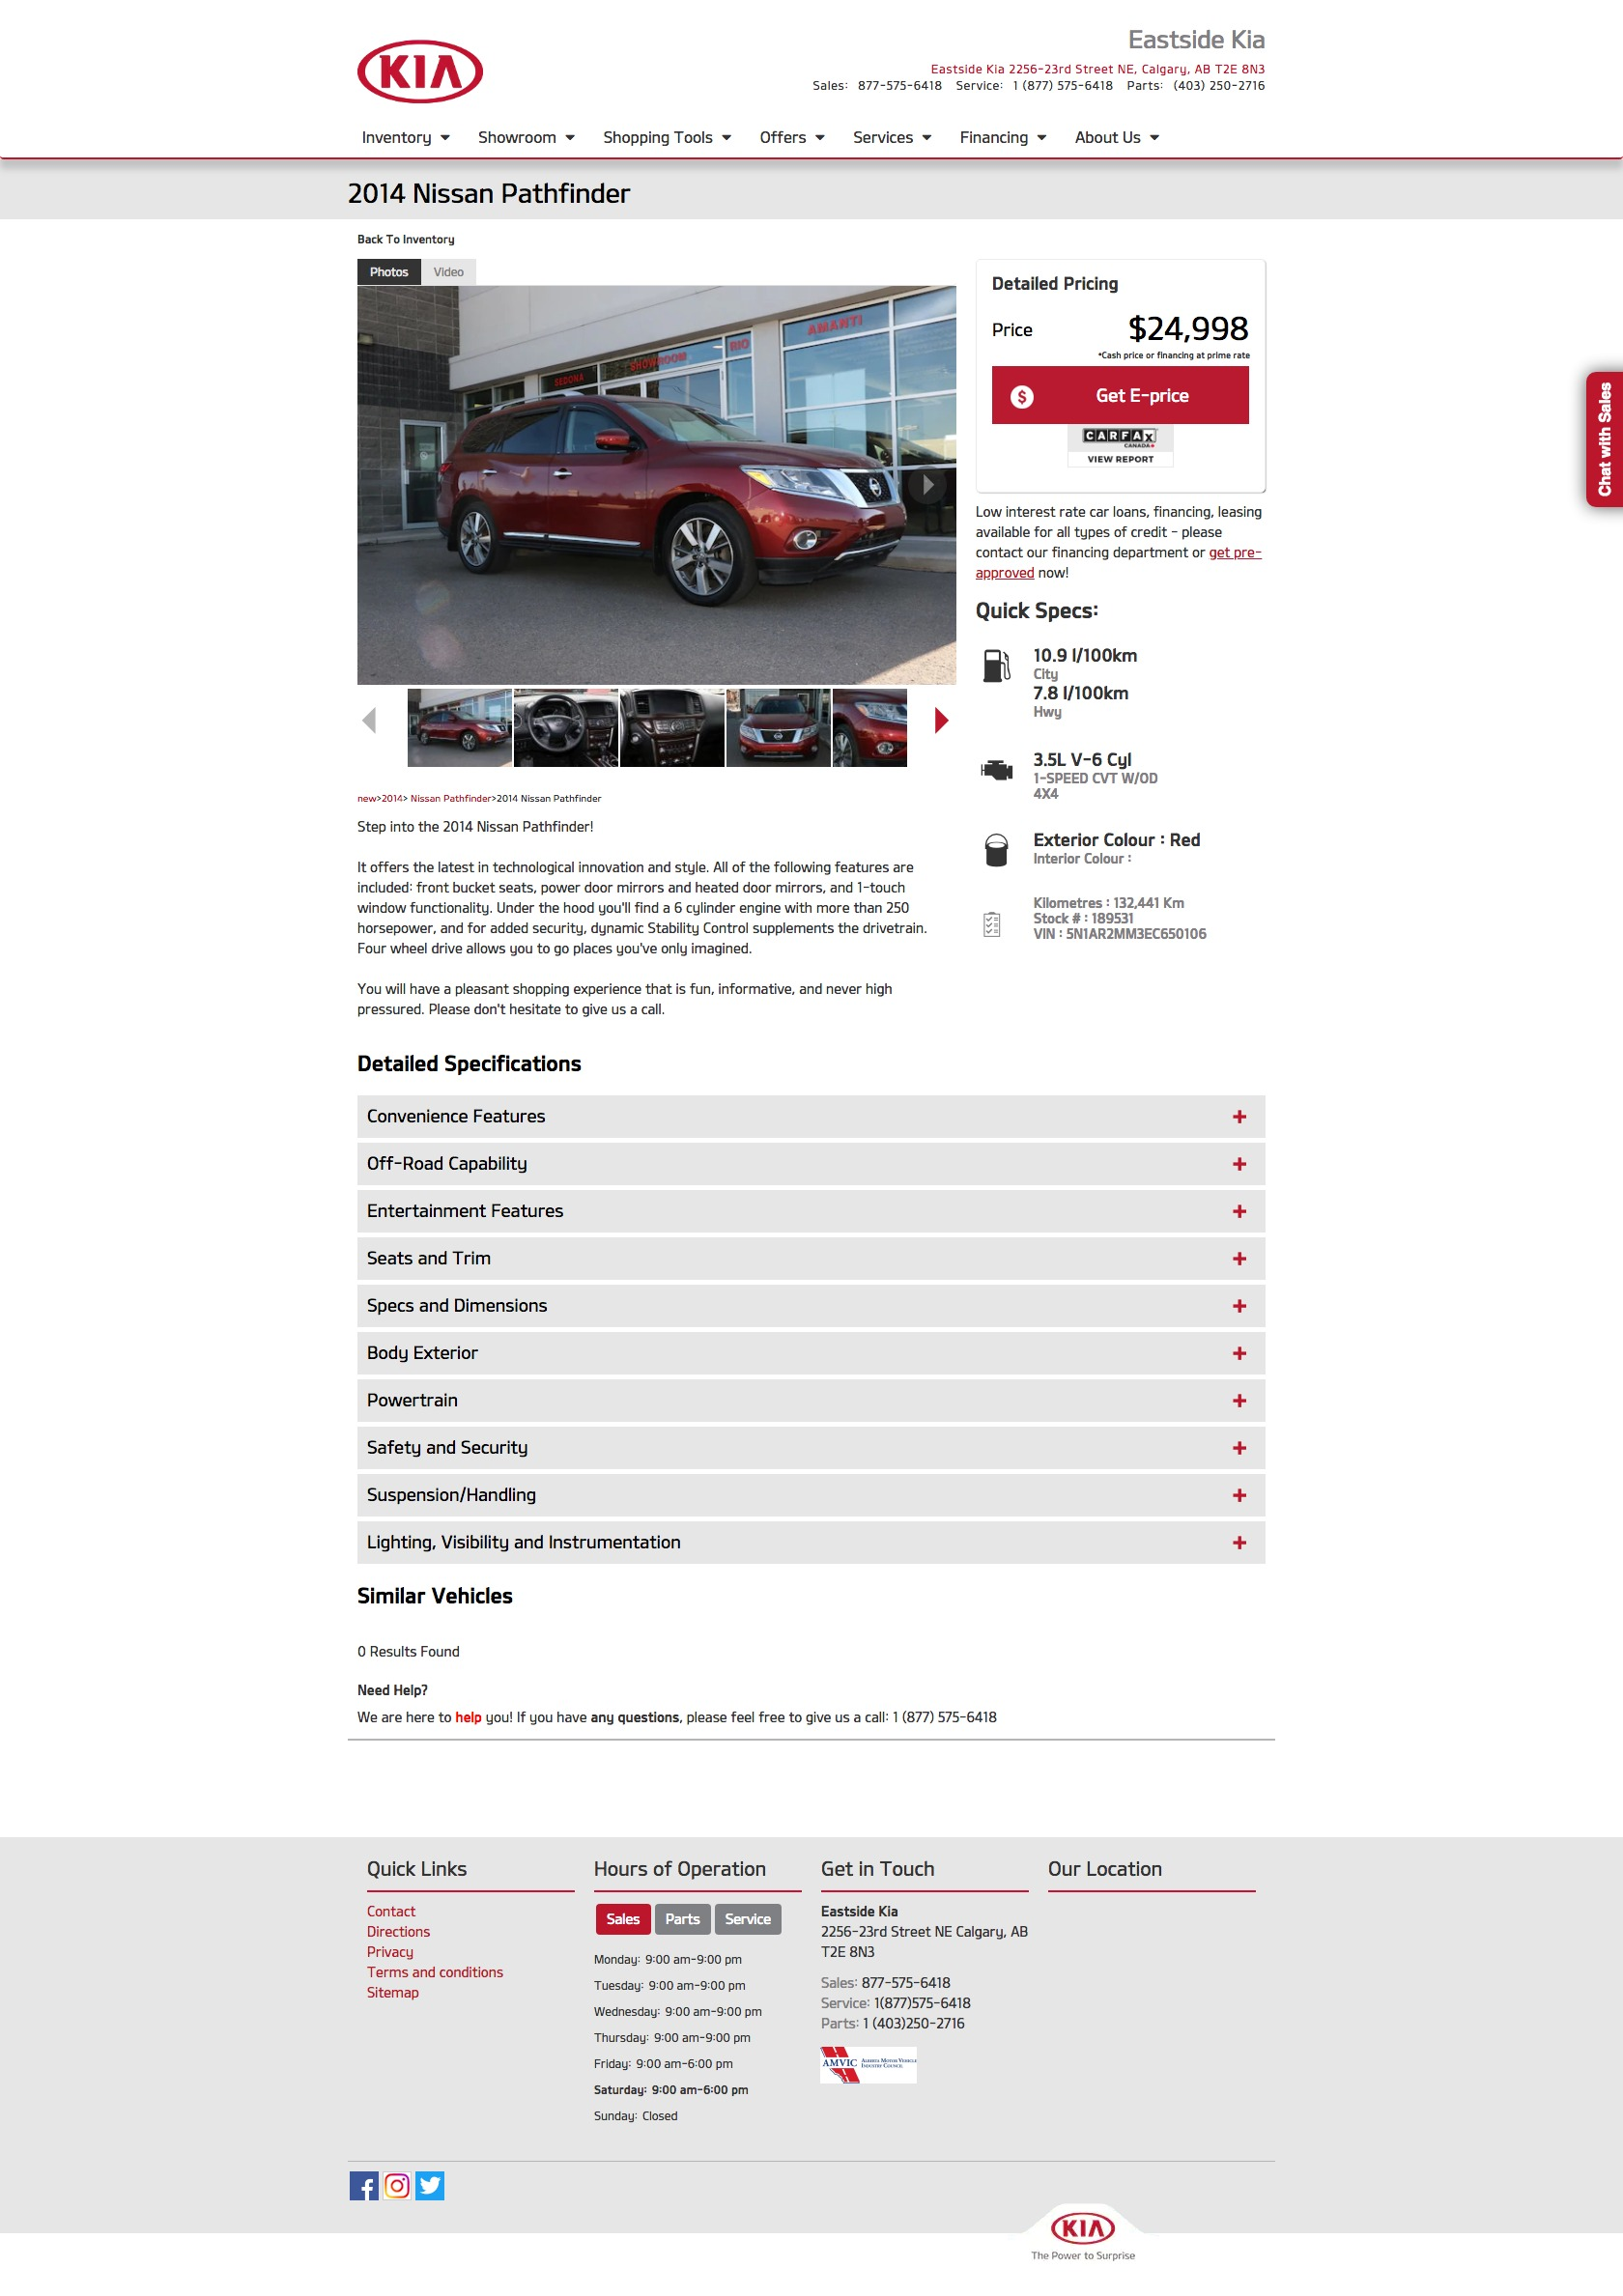car: (934, 707, 950, 735)
